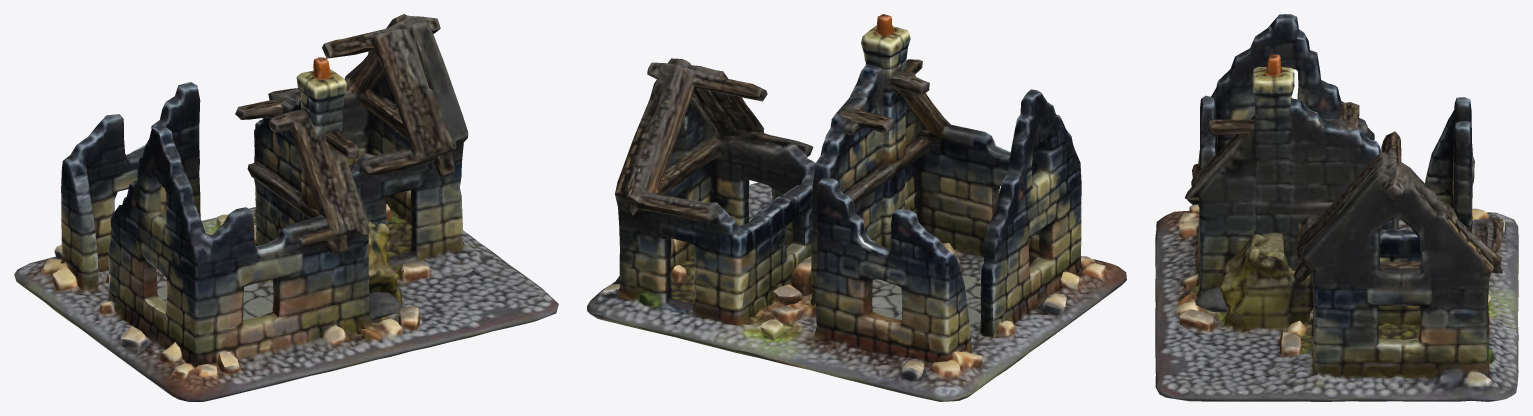
File: village_ash_a.glb
3 views of the same model, side by side, from view 1: azimuth 30°, elevation 25°; view 2: azimuth 150°, elevation 25°; view 3: azimuth 270°, elevation 25° (orthographic).
Visible parts, largest first — view 1: world; view 2: world; view 3: world.
Part boxes in pixels (bbox=[...]): world: bbox=[14, 14, 558, 401]; world: bbox=[587, 14, 1126, 401]; world: bbox=[1155, 14, 1518, 401].
Size of the model in its own units: 0.9957 by 0.64 by 0.8207.
Materials: 1 (1 with a texture image).
